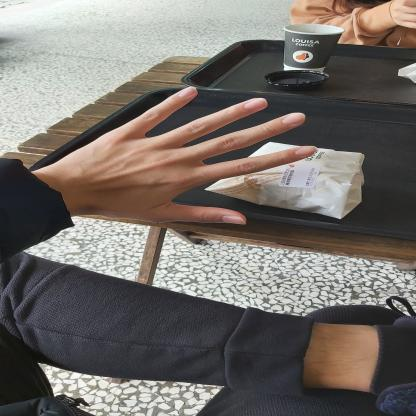bare_hand: (36, 75, 322, 233)
